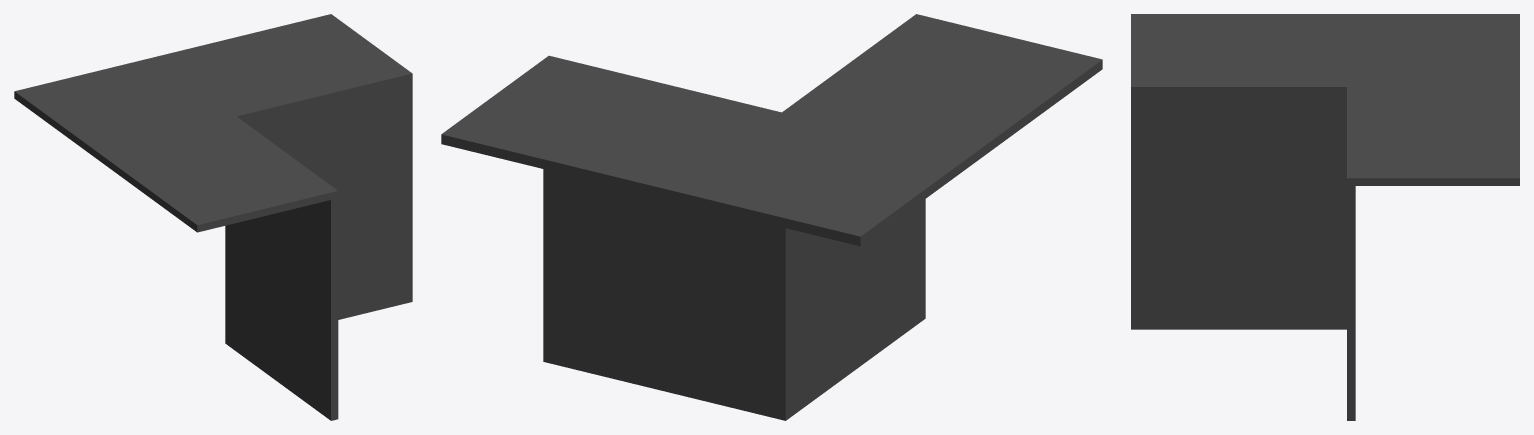
The model's file is MBS_City_WaterwayCurveIn.fbx.
3 renders of one model, left to right at view 1: azimuth 30°, elevation 25°; view 2: azimuth 150°, elevation 25°; view 3: azimuth 270°, elevation 25°, orthographic. The views are drawn at different scales.
Visible parts, largest first — view 1: Cube.842; view 2: Cube.842; view 3: Cube.842.
Part boxes in pixels (box(x1,y1,x2,y2)): Cube.842: box(14, 14, 412, 420); Cube.842: box(441, 14, 1102, 420); Cube.842: box(1131, 14, 1519, 420).
Bounding box in the file's own units: 1800 × 1240 × 1800.
